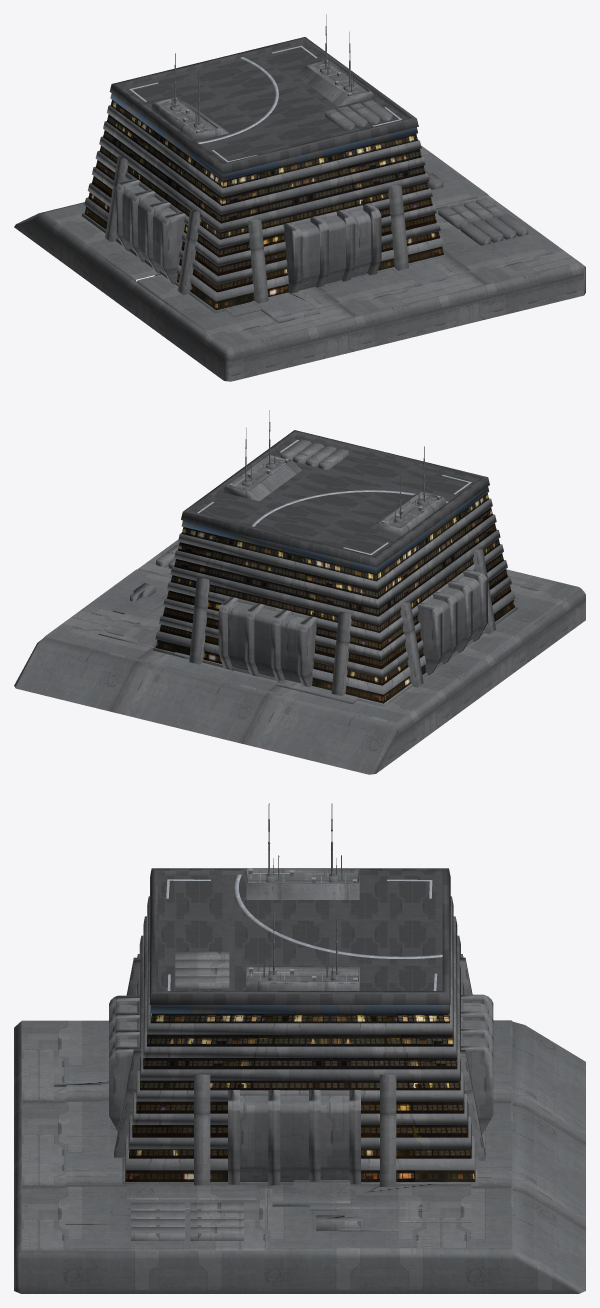
The model's file is CityBlock008.fbx.
3 renders of one model, top to bottom at view 1: azimuth 30°, elevation 25°; view 2: azimuth 150°, elevation 25°; view 3: azimuth 270°, elevation 25°, orthographic. The views are drawn at different scales.
Parts seen in each view (by area): view 1: SMCGBlock48_5910.Shape; view 2: SMCGBlock48_5910.Shape; view 3: SMCGBlock48_5910.Shape.
Part boxes in pixels (x1,y1,x2,y2): SMCGBlock48_5910.Shape: [14, 14, 585, 381]; SMCGBlock48_5910.Shape: [14, 410, 585, 774]; SMCGBlock48_5910.Shape: [14, 803, 585, 1293].
Size of the model in its own units: 726 by 433 by 747.
